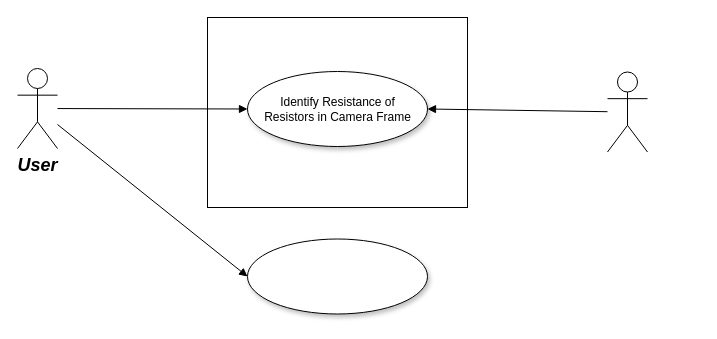
Image size: 717x339. Some labels were removed from this diagram. Each missing label, with the centre of its shape:
Aligns Camera with resistors of Interest: pixel 338 277
Software System: pixel 627 111
